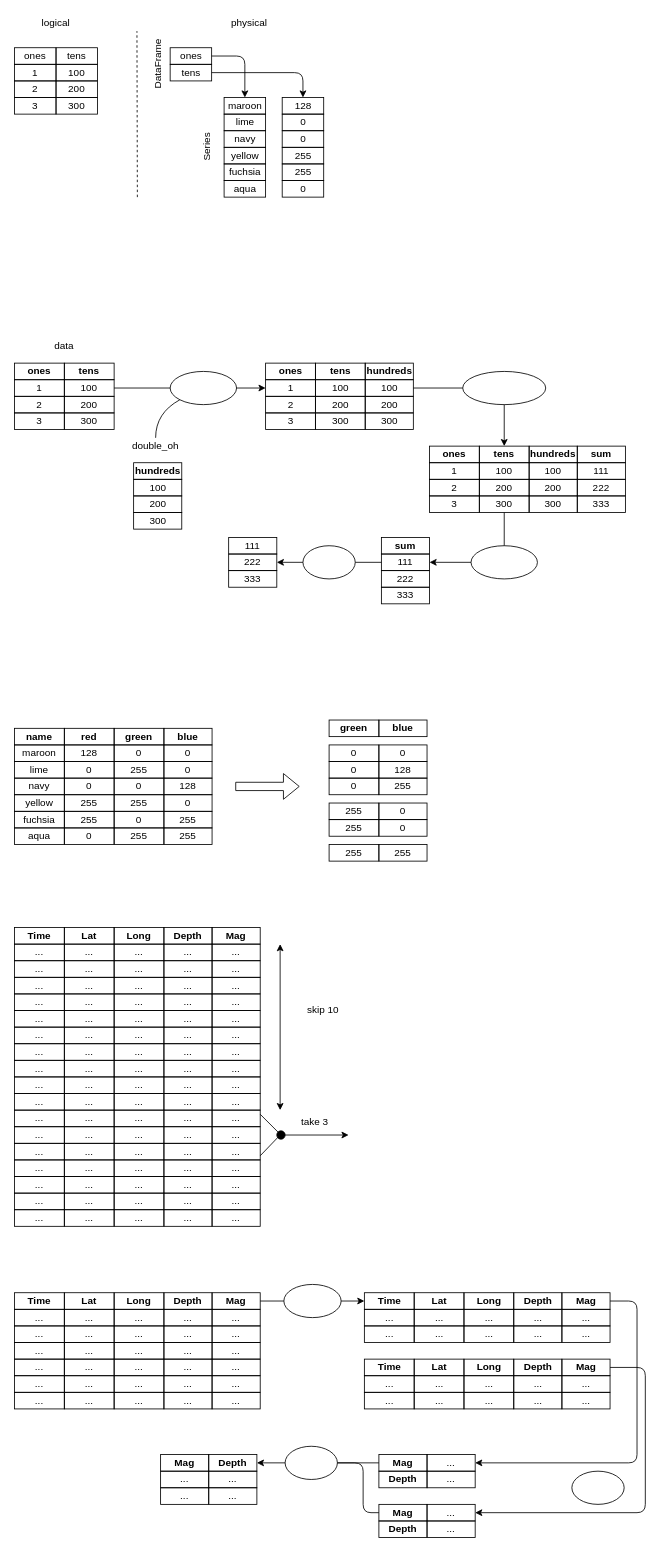
Some shapes in this 666 by 1552 pixel diagram are drawn without their labels. The centre of each missing label's shape, as x and y in pixels:
"dropSeries" belongs at point (503, 562).
"generateSeries" belongs at point (504, 388).
"groupBy" belongs at point (312, 1301).
"select" belongs at point (310, 1462).
"select / deflate" belongs at point (597, 1487).
"toArray" belongs at point (328, 562).
"withSeries" belongs at point (203, 388).
